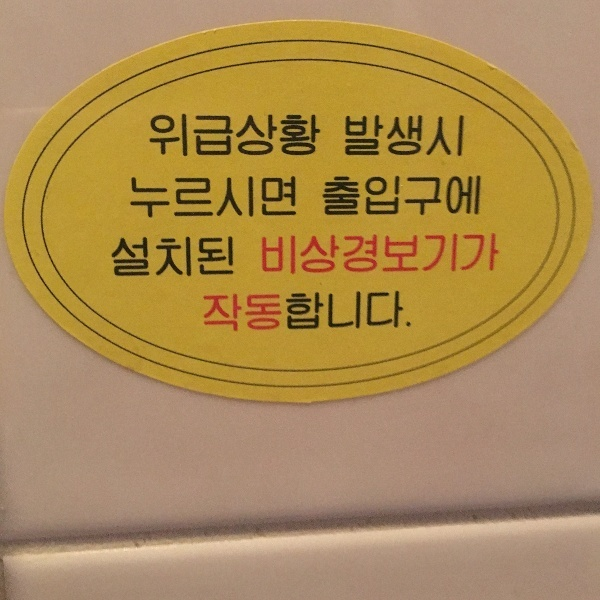text: (161, 113, 176, 158), (177, 113, 192, 158), (193, 113, 208, 158), (209, 113, 224, 158), (225, 113, 240, 158), (241, 113, 256, 158), (257, 113, 272, 158), (273, 113, 288, 158), (289, 113, 304, 158), (305, 113, 320, 158), (449, 115, 465, 157), (273, 232, 288, 276), (289, 232, 304, 276), (305, 232, 320, 276), (321, 232, 336, 276), (337, 232, 352, 276), (353, 232, 368, 276), (369, 232, 384, 276), (385, 232, 400, 276), (401, 232, 416, 276), (417, 232, 432, 276), (433, 232, 448, 276), (449, 232, 464, 276), (465, 232, 480, 276), (481, 232, 496, 276), (353, 115, 368, 157), (369, 115, 384, 157), (385, 115, 400, 157), (401, 115, 416, 157), (417, 115, 432, 157), (433, 115, 448, 157), (113, 236, 128, 278), (129, 236, 144, 278), (145, 236, 160, 278), (161, 236, 176, 278), (177, 236, 192, 278), (193, 236, 208, 278), (209, 236, 224, 278), (129, 177, 144, 218), (145, 177, 160, 218), (161, 177, 176, 218), (177, 177, 192, 218), (193, 177, 208, 218), (209, 177, 224, 218), (225, 177, 240, 218), (241, 177, 256, 218), (257, 177, 272, 218), (273, 177, 288, 218), (209, 292, 224, 333), (225, 292, 240, 333), (241, 292, 256, 333), (257, 292, 272, 333), (273, 292, 288, 333), (289, 292, 304, 333), (305, 292, 320, 333), (321, 292, 336, 333), (337, 292, 352, 333), (353, 292, 368, 333), (369, 292, 384, 333), (385, 292, 400, 333), (337, 177, 352, 217), (353, 177, 368, 217), (369, 177, 384, 217), (385, 177, 400, 217), (401, 177, 416, 217), (417, 177, 432, 217), (433, 177, 448, 217), (449, 177, 464, 217), (465, 177, 480, 217), (147, 113, 160, 158), (322, 177, 336, 217), (401, 292, 414, 333), (261, 232, 272, 276), (225, 236, 234, 278), (344, 115, 352, 157), (289, 177, 297, 218), (203, 292, 208, 333), (497, 232, 500, 276), (110, 236, 112, 278), (321, 113, 322, 158), (127, 177, 128, 218), (481, 177, 482, 217)
